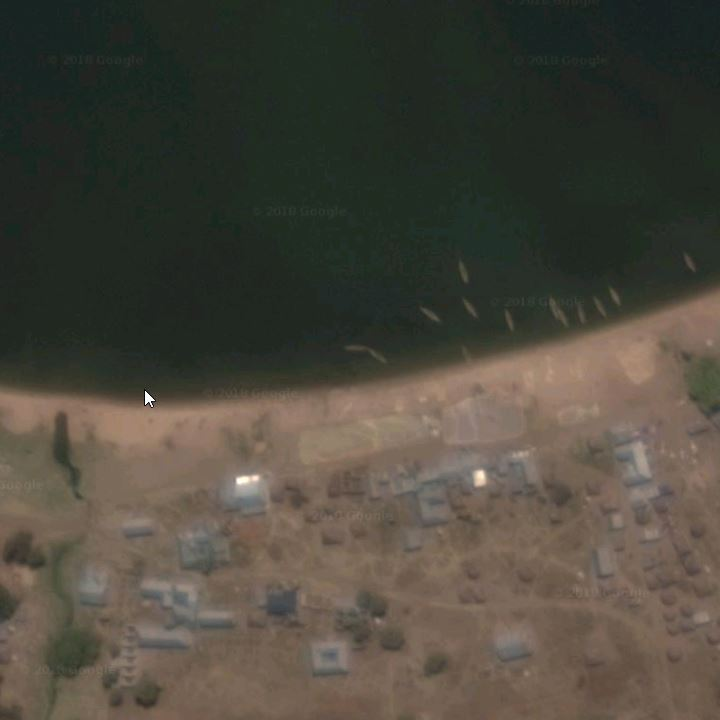boat: (605, 281, 623, 313), (417, 305, 444, 326), (462, 297, 481, 322), (592, 292, 608, 321), (546, 293, 560, 325), (458, 255, 471, 287), (575, 298, 587, 332), (458, 341, 472, 370), (684, 250, 699, 276), (556, 303, 568, 333), (503, 307, 516, 334), (368, 348, 388, 365), (342, 345, 370, 353)
